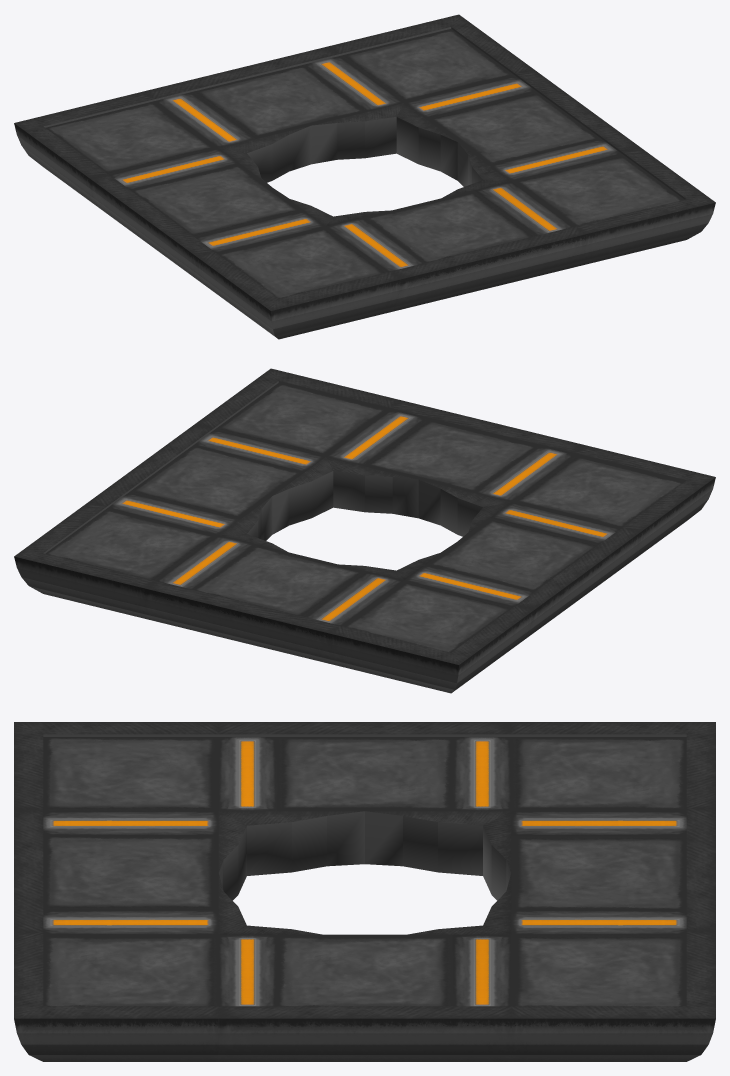
Rendered from platformlargeHole.fbx.
3 renders of one model, top to bottom at view 1: azimuth 30°, elevation 25°; view 2: azimuth 150°, elevation 25°; view 3: azimuth 270°, elevation 25°, orthographic. The views are drawn at different scales.
Visible parts, largest first — view 1: Cylinder.005, Cylinder.009, Cylinder.006, Cylinder.007, Cylinder.010, Cylinder.008, Cylinder.002, Cube.007, Cube.002, Cube.000, Cube.003, Cylinder.004; view 2: Cylinder.010, Cylinder.006, Cylinder.004, Cylinder.008, Cylinder.007, Cylinder.005, Cube.000, Cube.003, Cylinder.009, Cube.007, Cube.002, Cylinder.002; view 3: Cylinder.007, Cylinder.002, Cylinder.005, Cylinder.010, Cylinder.006, Cylinder.004, Cube.002, Cube.003, Cube.007, Cube.000, Cylinder.008, Cylinder.009.
Boxes of the visible parts, x1,y1,x2,y2 form: Cylinder.005: [155, 56, 403, 182]; Cylinder.009: [196, 226, 585, 339]; Cylinder.006: [396, 76, 621, 186]; Cylinder.007: [110, 148, 333, 252]; Cylinder.010: [326, 180, 572, 271]; Cylinder.008: [14, 91, 214, 290]; Cylinder.002: [515, 69, 715, 266]; Cube.007: [340, 29, 514, 102]; Cube.002: [45, 101, 218, 174]; Cube.000: [511, 154, 684, 226]; Cube.003: [217, 226, 387, 298]; Cylinder.004: [144, 14, 533, 100]; Cylinder.010: [326, 410, 574, 536]; Cylinder.006: [108, 430, 333, 540]; Cylinder.004: [14, 501, 339, 666]; Cylinder.008: [329, 527, 640, 693]; Cylinder.007: [396, 502, 619, 606]; Cylinder.005: [157, 534, 403, 625]; Cube.000: [215, 383, 389, 456]; Cube.003: [511, 455, 684, 528]; Cylinder.009: [390, 400, 715, 565]; Cube.007: [45, 508, 218, 580]; Cube.002: [342, 580, 512, 652]; Cylinder.002: [89, 368, 400, 507]; Cylinder.007: [218, 737, 511, 875]; Cylinder.002: [14, 932, 511, 1061]; Cylinder.005: [483, 811, 686, 934]; Cylinder.010: [43, 811, 246, 934]; Cylinder.006: [218, 925, 511, 1006]; Cylinder.004: [511, 808, 715, 1061]; Cube.002: [511, 737, 686, 811]; Cube.003: [43, 737, 218, 811]; Cube.007: [511, 934, 686, 1006]; Cube.000: [43, 934, 218, 1006]; Cylinder.008: [218, 722, 715, 808]; Cylinder.009: [14, 722, 218, 931].
Bounding box in the file's own units: 4800 × 420 × 4800.
